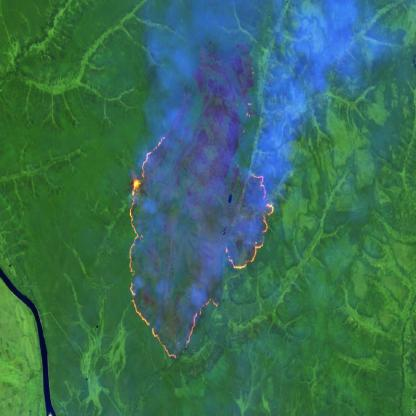fire: (124, 113, 276, 368)
